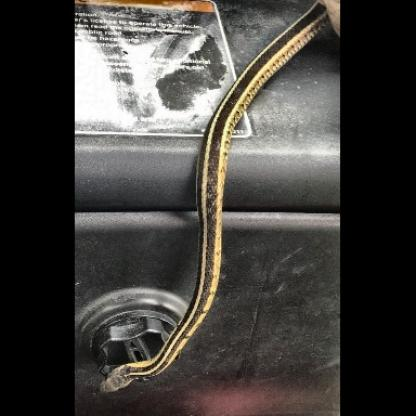Snake: (97, 8, 298, 398)
